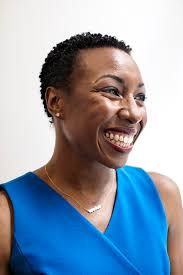black_female: (35, 36, 163, 171)
